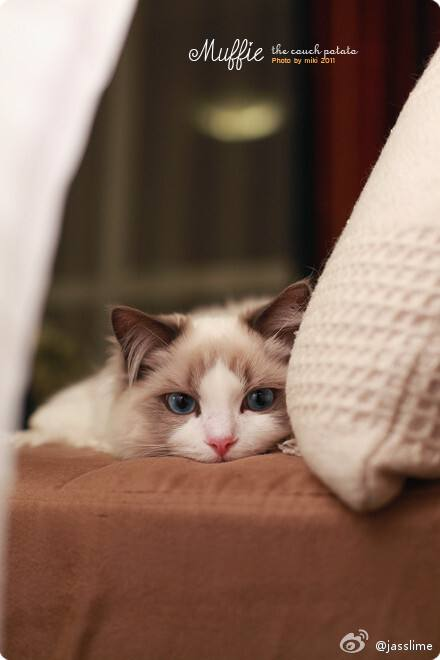cat: (29, 276, 316, 464)
